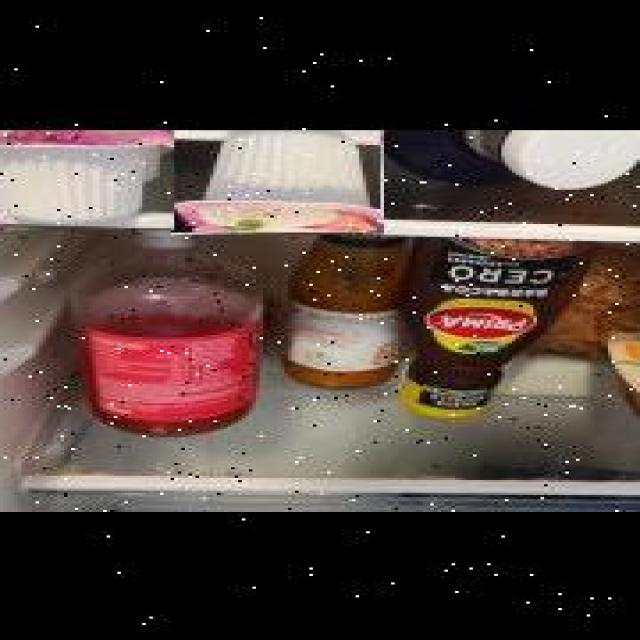cheese: (171, 128, 384, 233), (4, 128, 174, 228)
